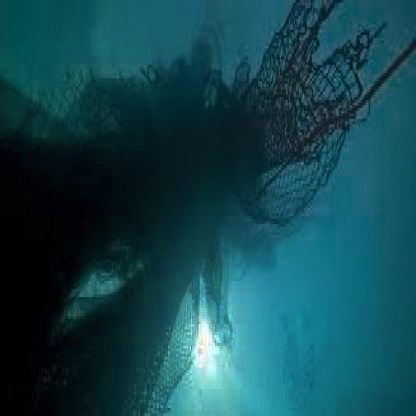net: (232, 11, 374, 227)
